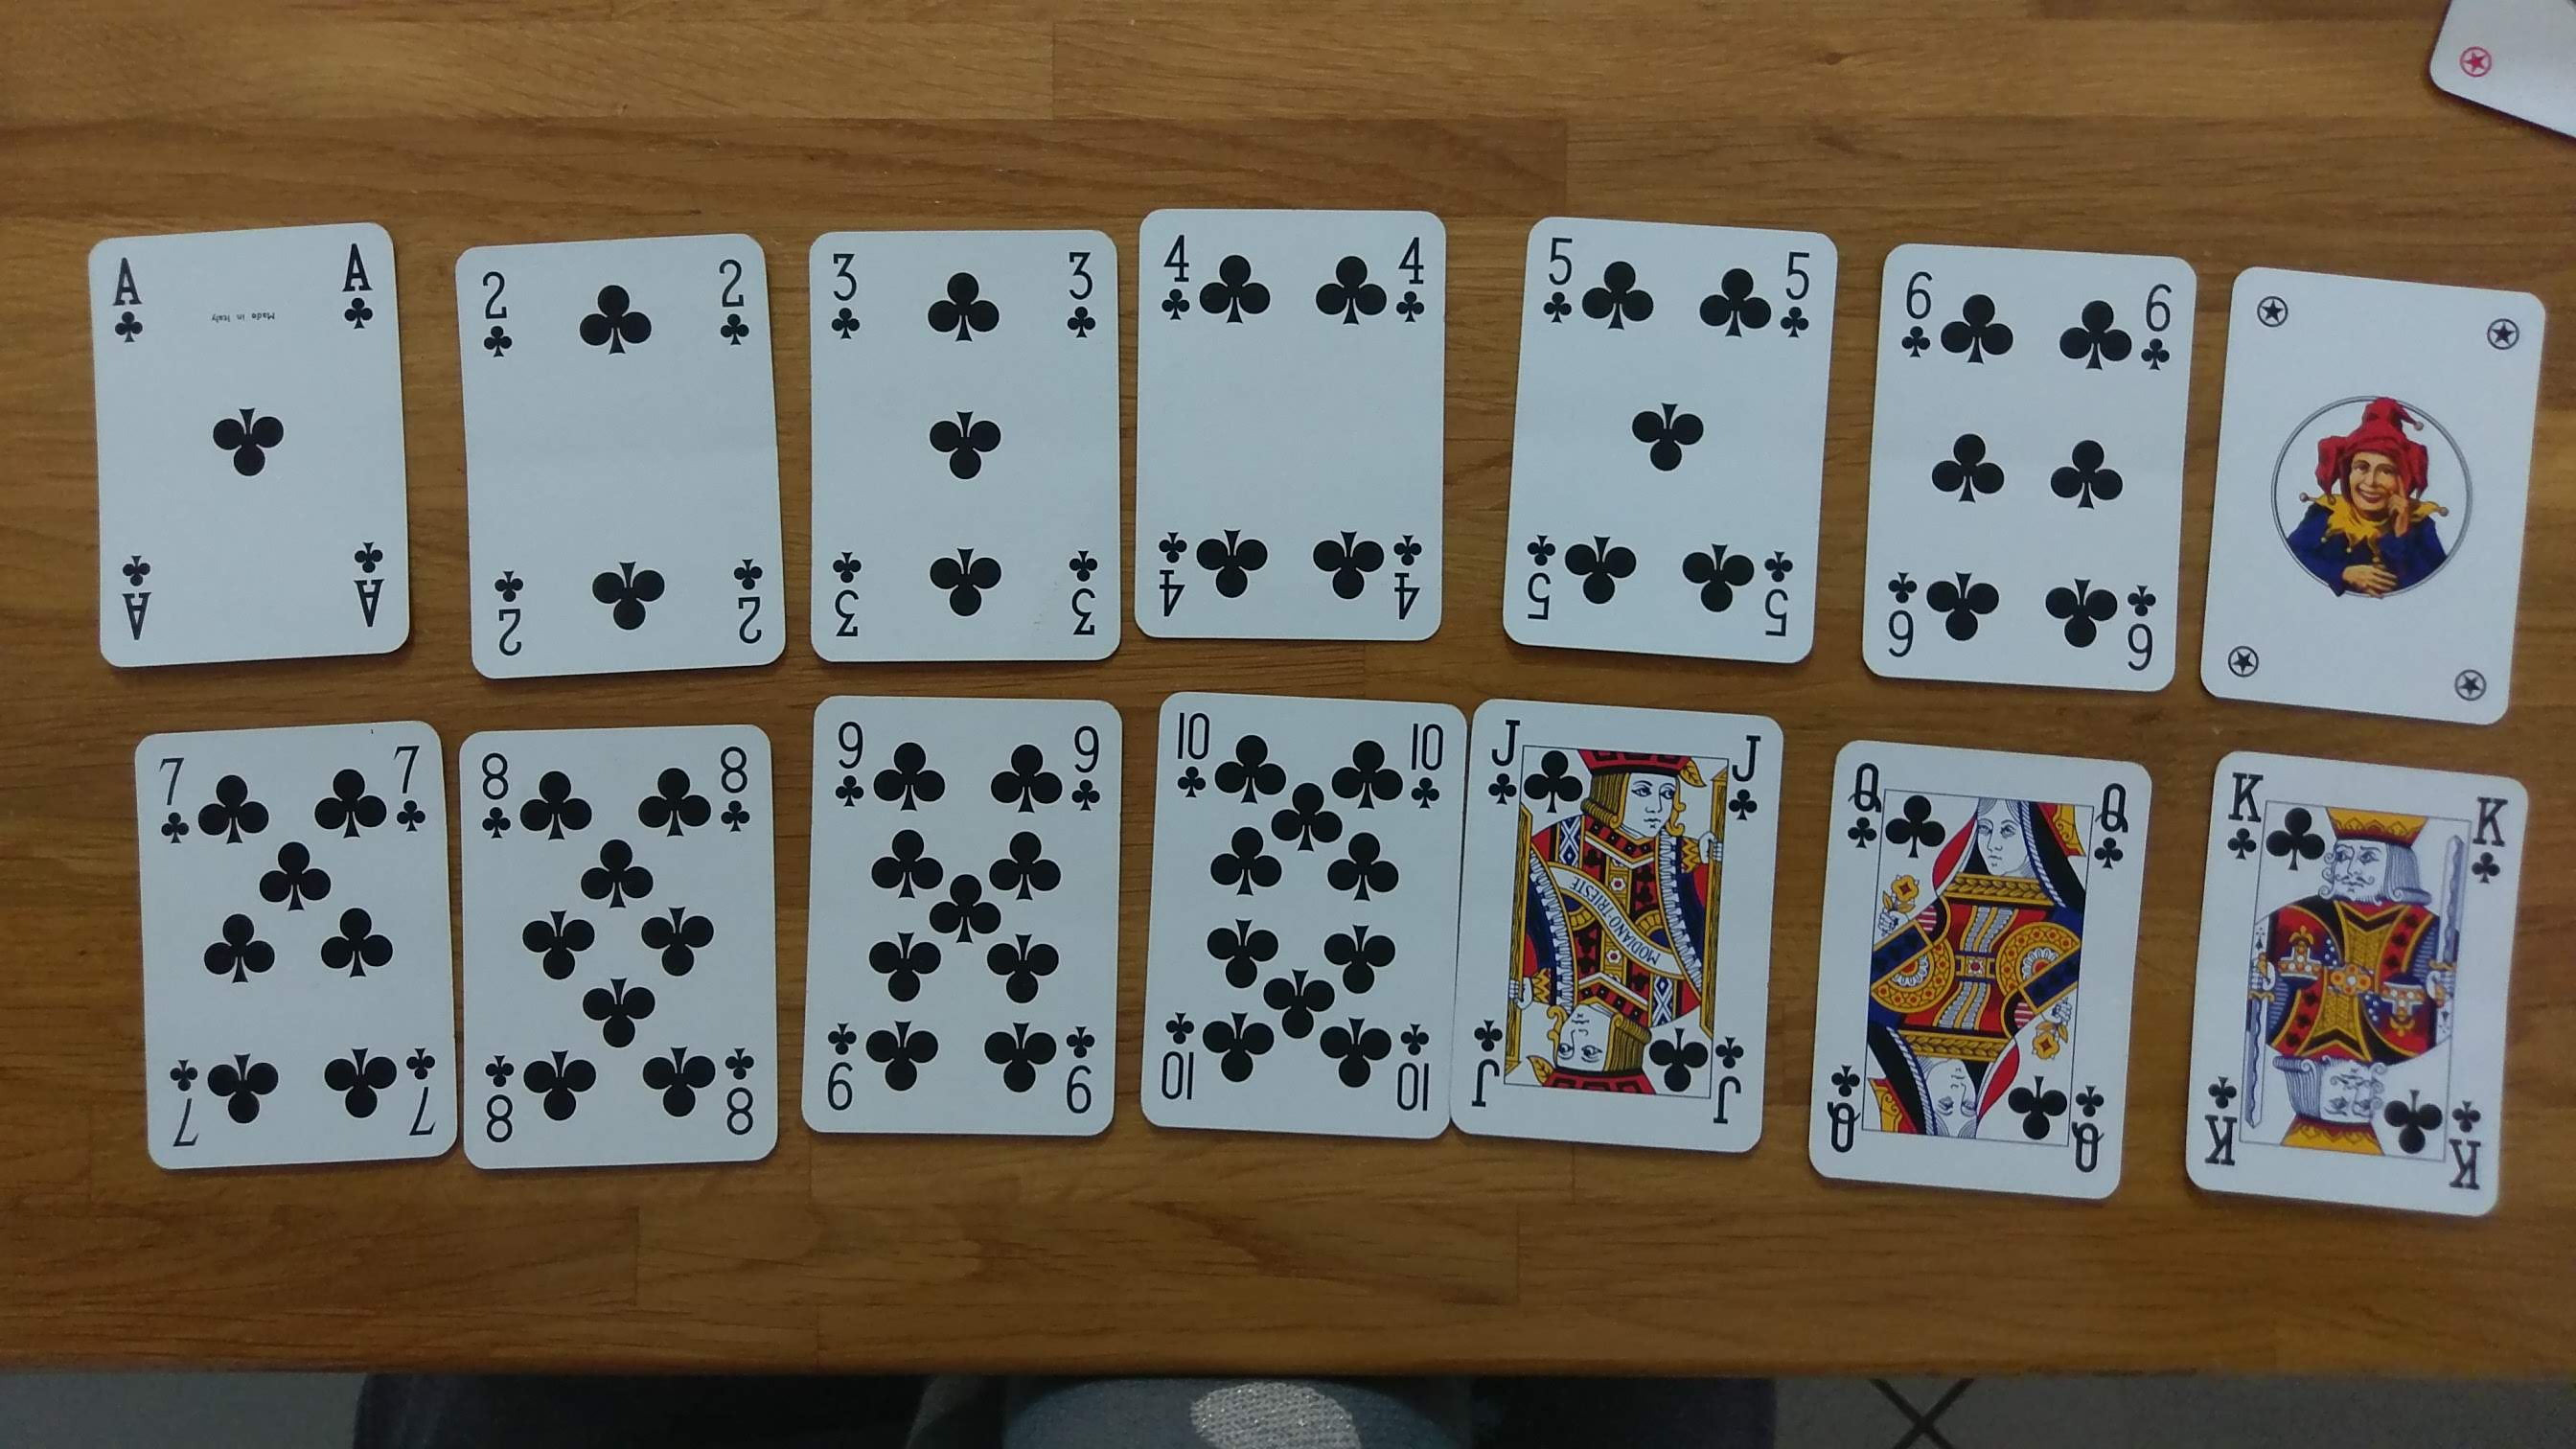10F: (1148, 994, 1212, 1122), (1403, 709, 1458, 837), (1168, 695, 1226, 814), (1392, 1010, 1444, 1138)
1F: (338, 525, 426, 651), (94, 241, 157, 363), (108, 534, 170, 655), (338, 228, 386, 350)
2F: (678, 241, 766, 373), (467, 246, 538, 375), (706, 547, 778, 671), (487, 548, 543, 671)
3F: (810, 536, 888, 660), (1040, 232, 1111, 357), (812, 244, 872, 364), (1053, 541, 1111, 663)
4F: (1375, 216, 1440, 340), (1145, 218, 1207, 338), (1148, 515, 1203, 637), (1382, 511, 1431, 640)
5F: (1499, 513, 1571, 642), (1750, 529, 1808, 660), (1527, 212, 1583, 341), (1766, 235, 1822, 357)
6F: (1870, 552, 1930, 688), (2125, 251, 2183, 391), (2111, 568, 2169, 697), (1900, 251, 1950, 375)
7F: (382, 1037, 460, 1168), (147, 1028, 216, 1175), (375, 720, 442, 853), (142, 738, 205, 855)
8F: (709, 1017, 773, 1164), (694, 720, 766, 833), (464, 738, 525, 853), (478, 1044, 527, 1168)
9F: (1053, 702, 1118, 824), (810, 998, 869, 1134), (816, 709, 883, 821), (1049, 1014, 1106, 1143)
JF: (1695, 1023, 1764, 1154), (1465, 984, 1520, 1143), (1486, 709, 1532, 824), (1720, 725, 1767, 832)
KF: (2201, 738, 2275, 876), (2183, 1060, 2261, 1175), (2454, 787, 2523, 904), (2429, 1090, 2491, 1212)
M1: (2463, 287, 2541, 382), (2427, 646, 2493, 736), (2247, 258, 2302, 357), (2213, 619, 2268, 711)
M2: (2442, 16, 2503, 133)
QF: (2077, 755, 2139, 902), (1821, 1056, 1879, 1175), (2056, 1076, 2114, 1189), (1844, 752, 1895, 870)
